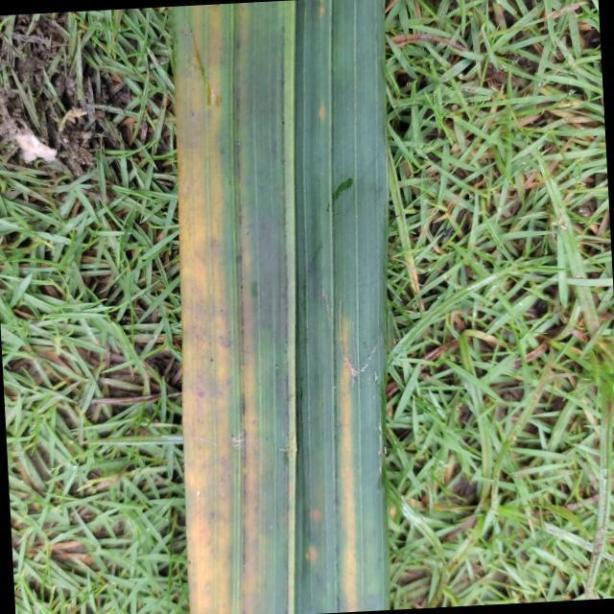Megnesium: (174, 0, 390, 614)
